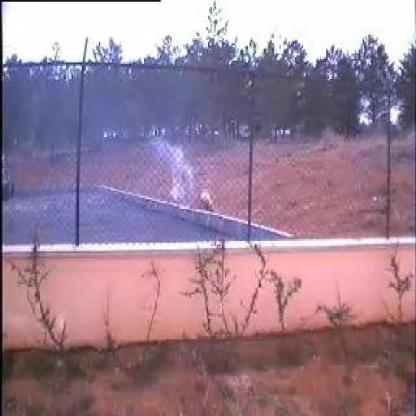-: (86, 128, 204, 233)
